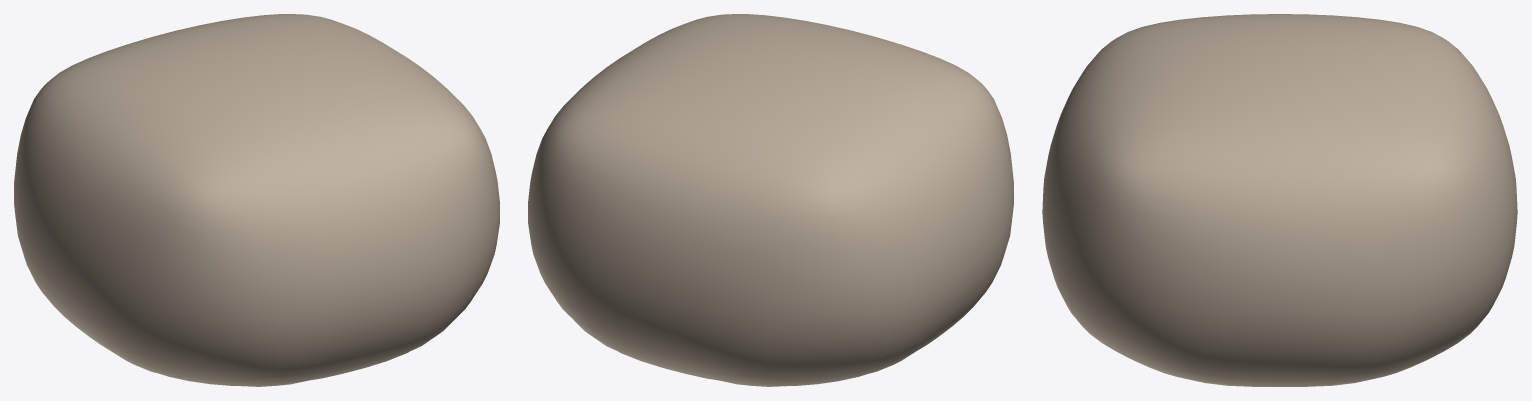
File: Pouf2_11.fbx
The picture shows the model from 3 angles, left to right: view 1: azimuth 30°, elevation 25°; view 2: azimuth 150°, elevation 25°; view 3: azimuth 270°, elevation 25°; orthographic projection. The views are drawn at different scales.
Visible parts, largest first — view 1: pCube2905; view 2: pCube2905; view 3: pCube2905.
Boxes of the visible parts, <box> form: pCube2905: <box>14,14,499,386</box>; pCube2905: <box>528,14,1013,386</box>; pCube2905: <box>1042,14,1517,386</box>.
Bounding box in the file's own units: 34.76 × 23.17 × 34.75.
